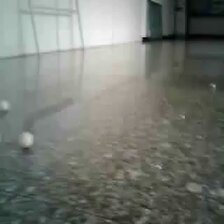tennis: (97, 149, 130, 191), (1, 102, 17, 130), (22, 68, 37, 89)
